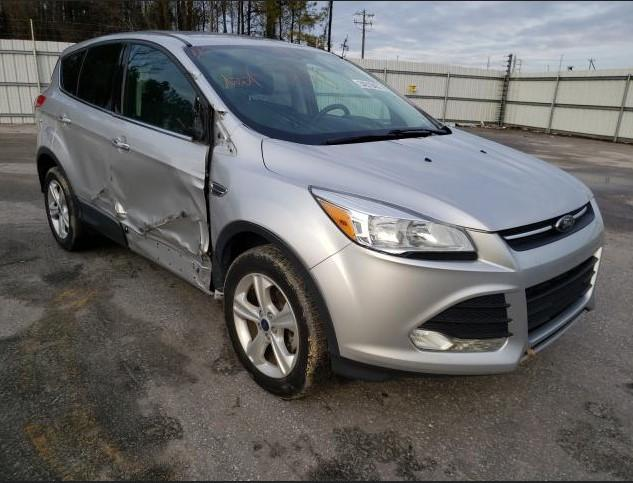Back-door: (54, 40, 130, 218)
Back-wheel: (43, 166, 110, 251)
Back-window: (61, 43, 126, 114)
Fender: (210, 124, 353, 269)
Front-bumper: (306, 196, 606, 375)
Front-door: (109, 40, 215, 270)
Front-wheel: (223, 242, 331, 400)
Front-window: (124, 43, 199, 136)
Grille: (415, 248, 603, 342)
Headlight: (307, 186, 476, 260)
Hood: (261, 125, 594, 231)
Quarter-panel: (34, 86, 58, 164)
Rocker-panel: (77, 198, 211, 295)
Roof: (61, 30, 327, 56)
Tail-light: (35, 95, 47, 107)
Windshield: (182, 45, 451, 145)
